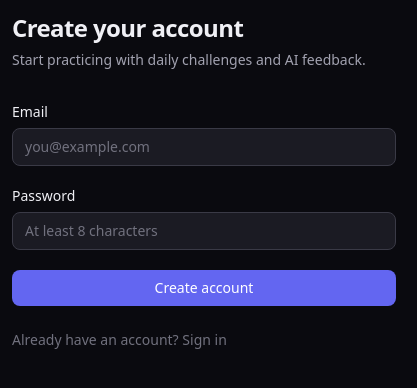
it: AuthForm sign-up › rejects a short password
Type "dev@example.com" into the field labelled "Email".
click(204, 147); type("dev@example.com")  # box [12,128,396,166]
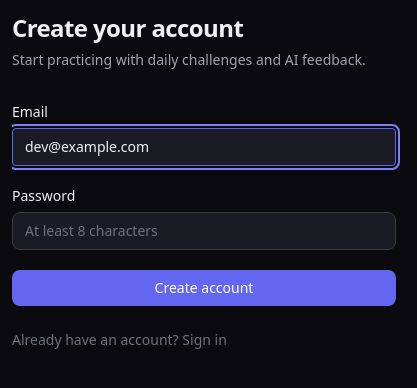
Type "short" into the password field labelled "Password".
click(204, 231); type("short")  # box [12,212,396,250]
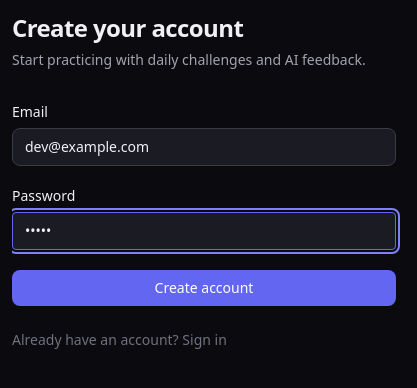
Click the button "Create account".
click(204, 288)  # box [12,270,396,306]
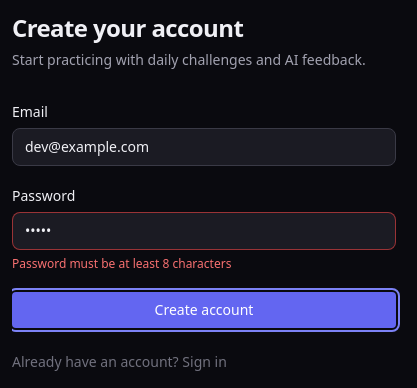
expect the text "Password must be at least 8 characters" is shown: met, box [12,255,231,272]
